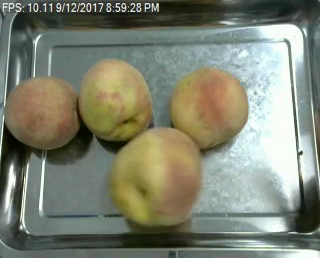Peach: (107, 128, 200, 226), (168, 68, 247, 150), (80, 57, 153, 141), (2, 75, 81, 150)
